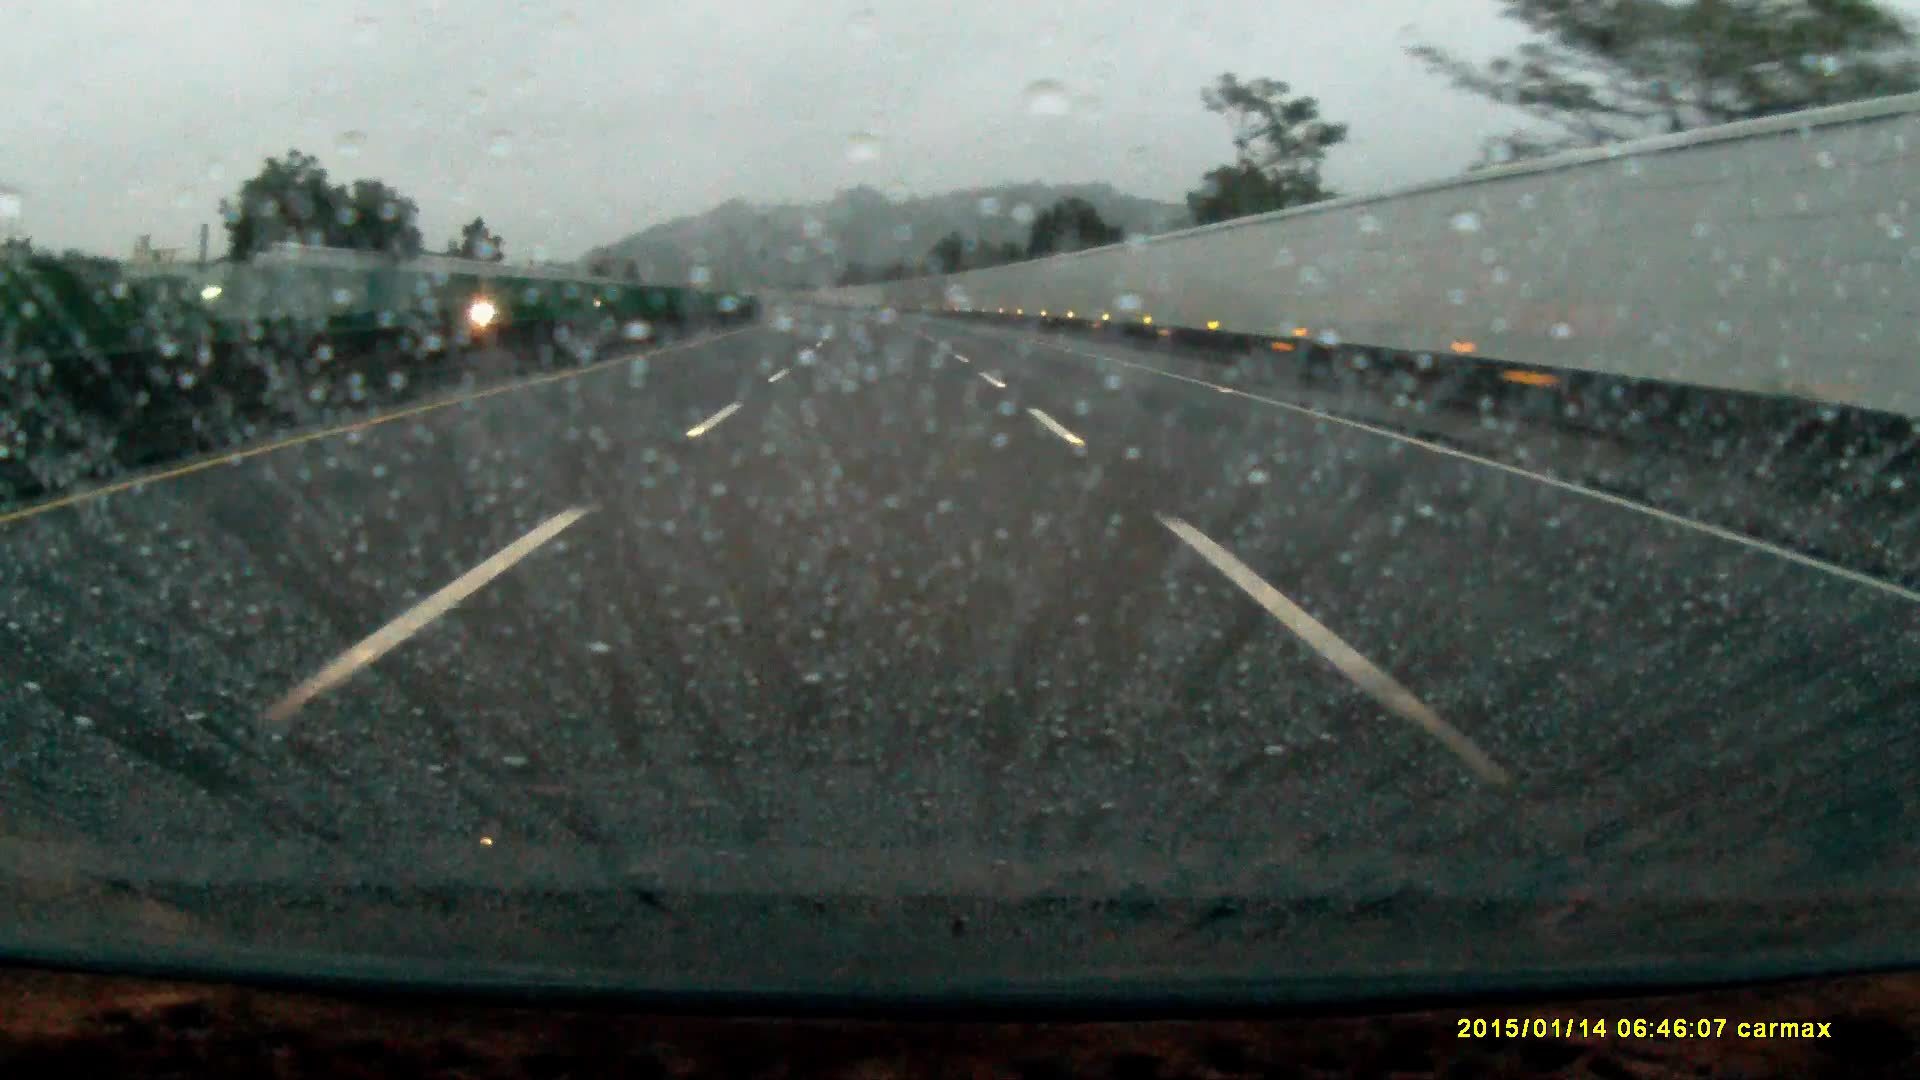vehicle: (448, 294, 518, 328)
